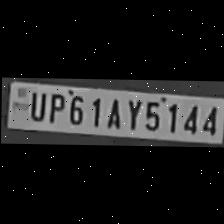1: (161, 98, 179, 132), (86, 94, 102, 125)
4: (178, 100, 198, 133), (198, 102, 218, 134)
5: (139, 98, 161, 132)
6: (64, 92, 84, 124)
A: (100, 96, 122, 128)
P: (43, 90, 63, 122)
U: (24, 88, 46, 121)
Y: (122, 97, 140, 130)
